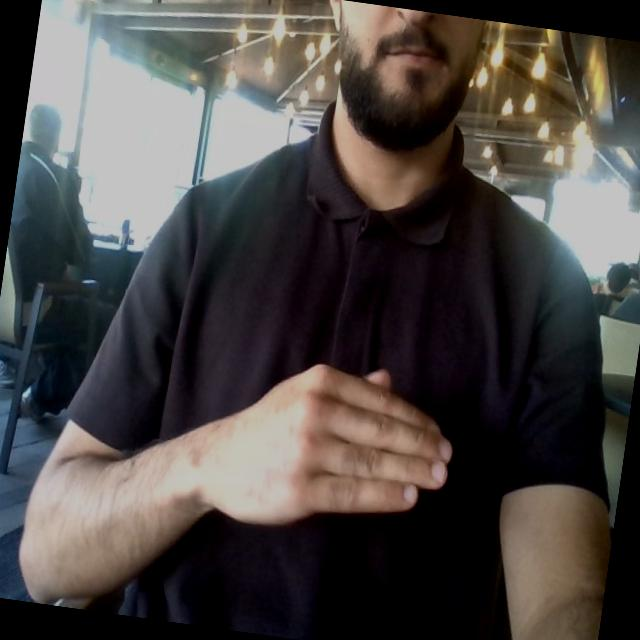Hand: (194, 365, 451, 524)
